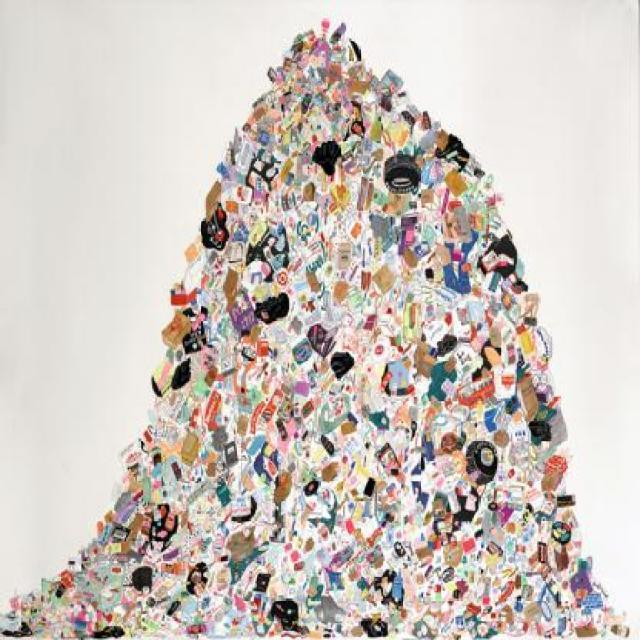garbage: (120, 25, 562, 522), (226, 151, 474, 632), (9, 491, 570, 625)
